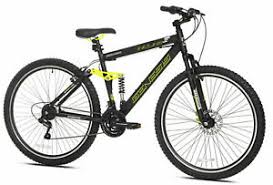bicycle: (5, 3, 270, 181)
